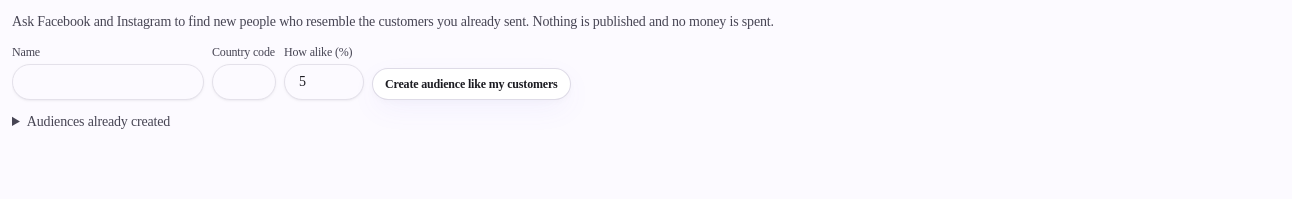
Scenario: MetaLookalikeAudienceControls › lists every created Lookalike Audience
Click the heading "Audiences already created": [98, 122] box [27,114,170,129]
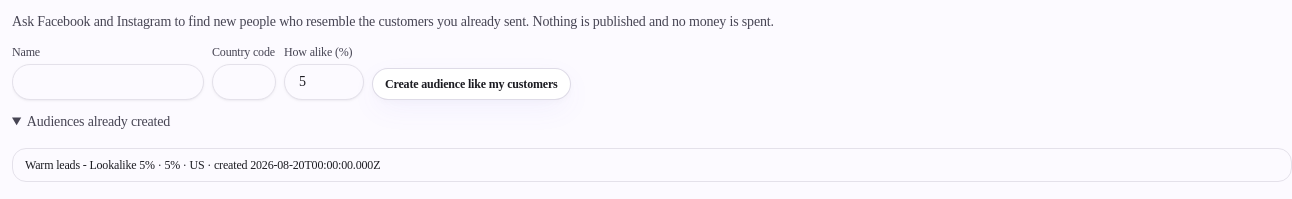
Now the list item "Warm leads - Lookalike 5% · 5% · US · created 2026-08-20T00:00:00.000Z" is shown, box [12,148,1291,182]
